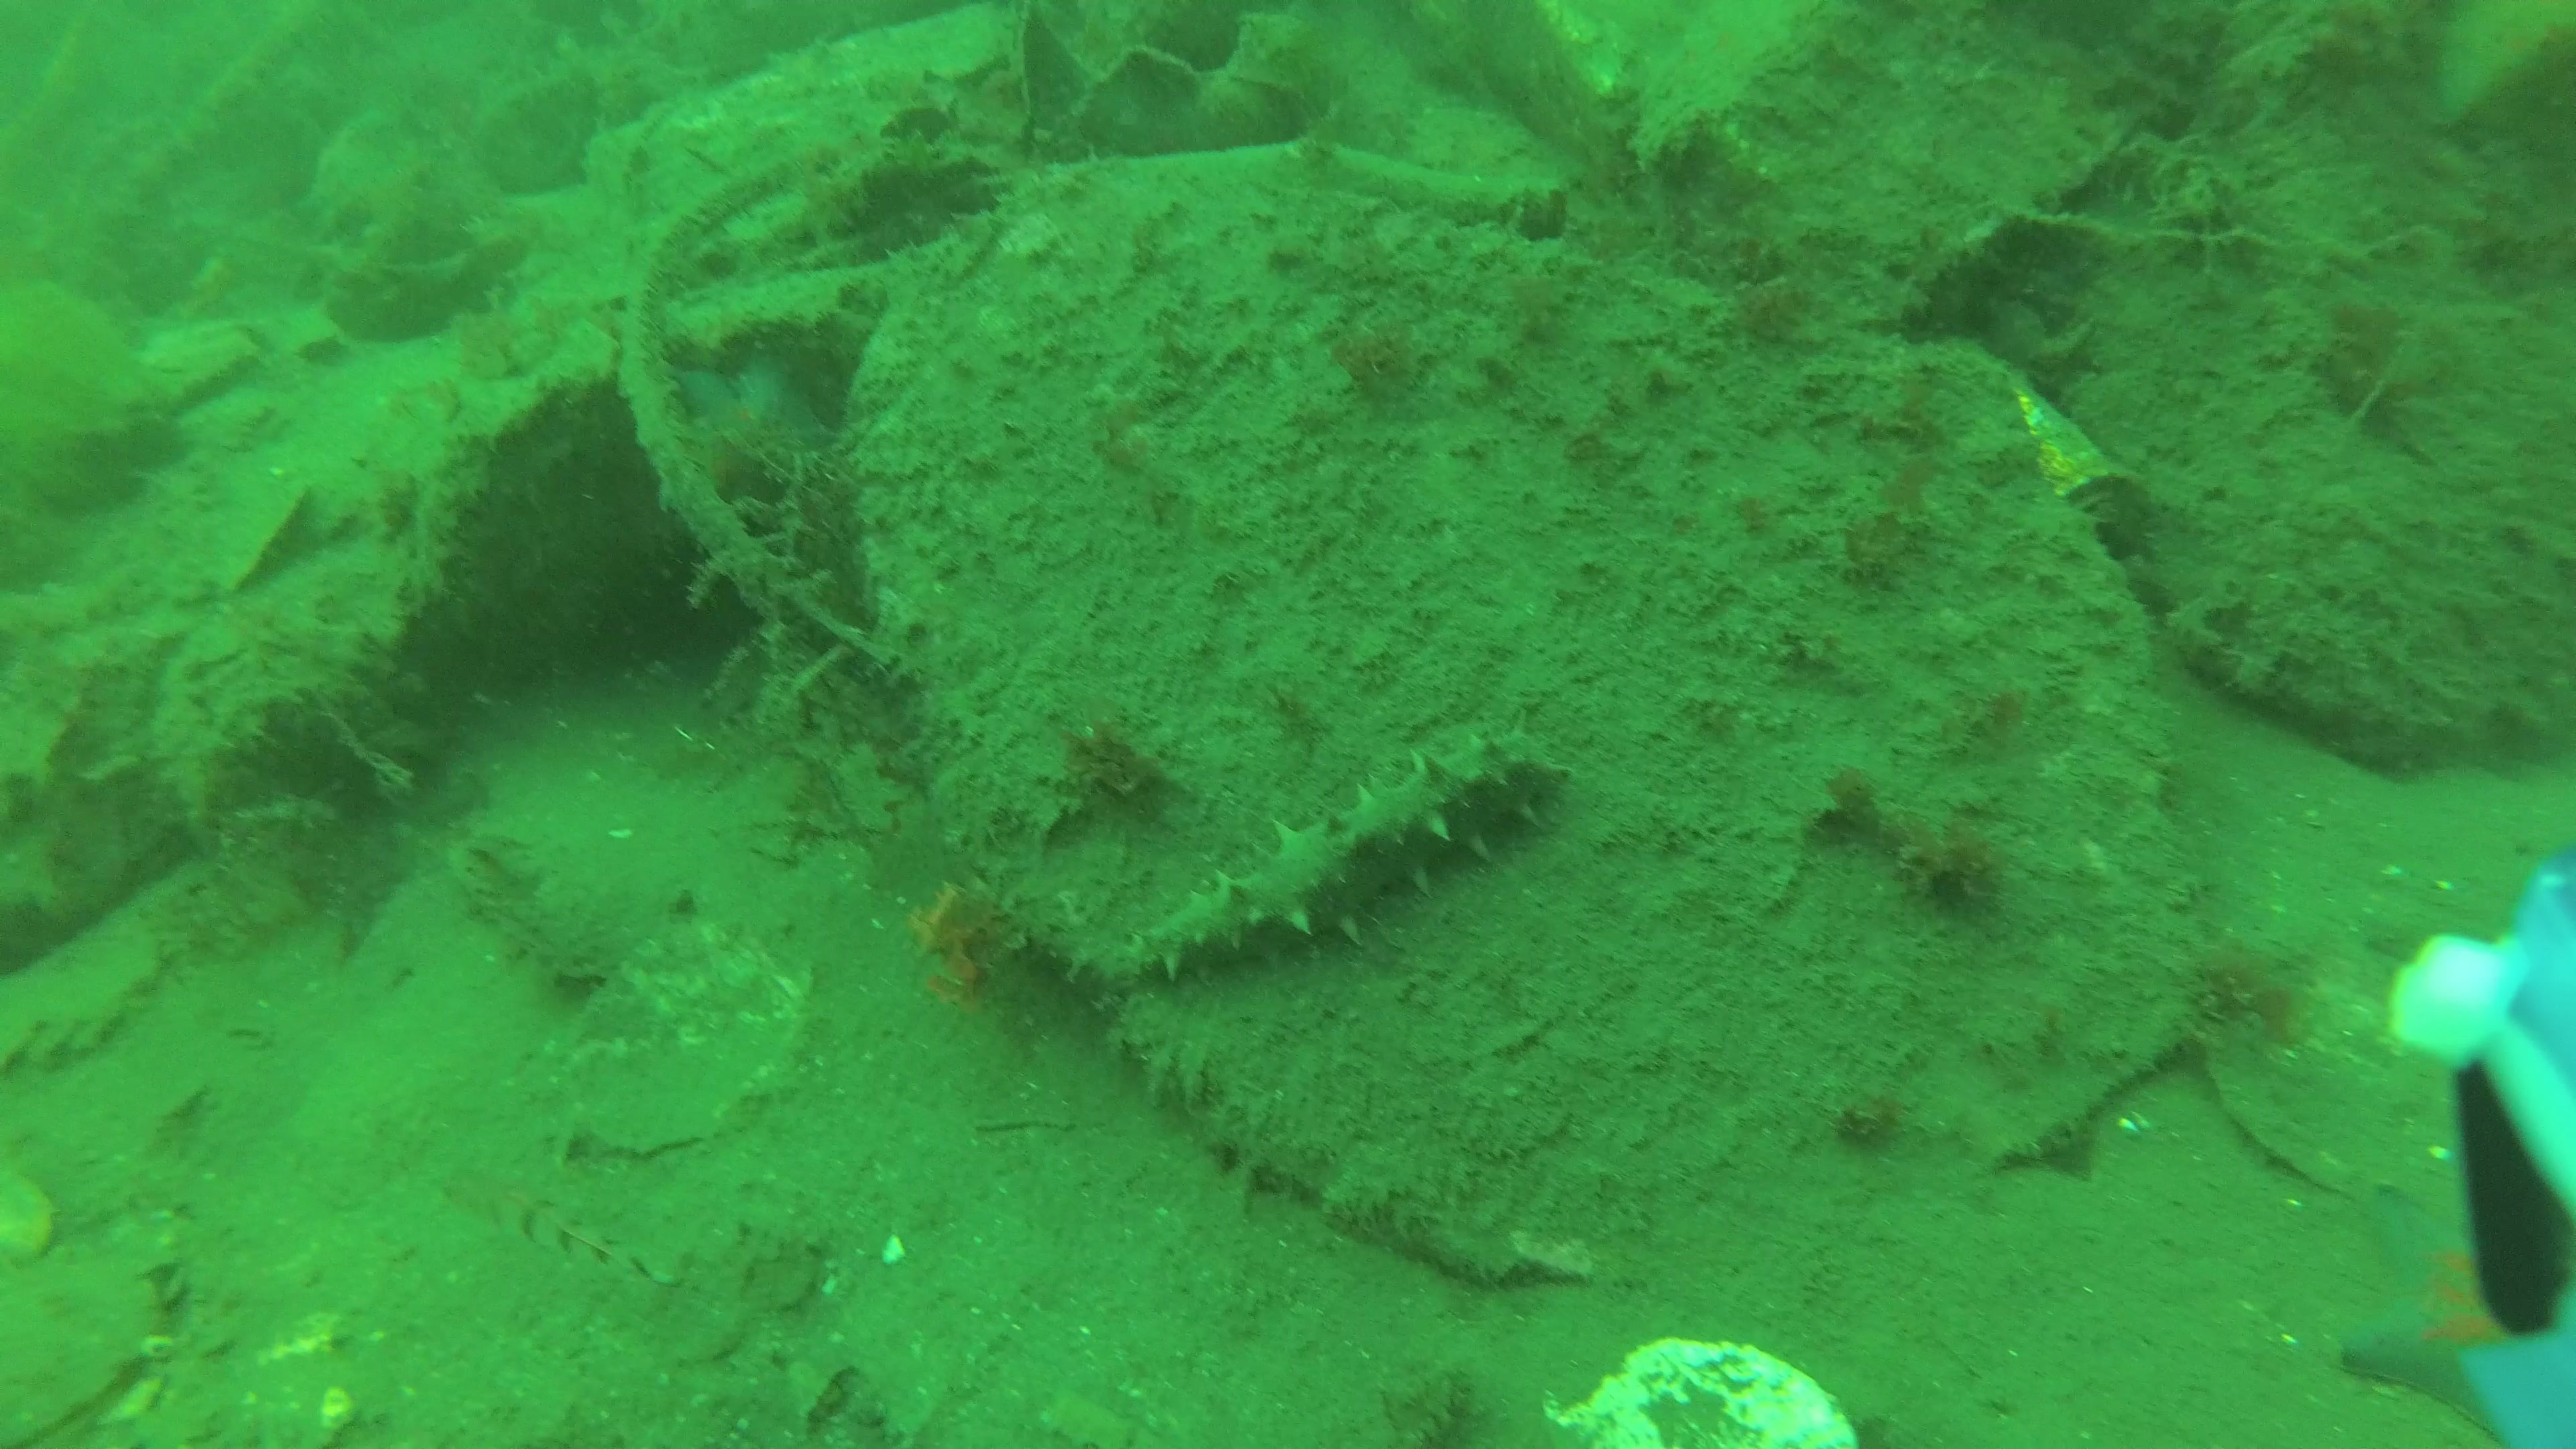holothurian: (1122, 725, 1576, 991)
scallop: (2204, 989, 2505, 1217), (561, 913, 810, 1154)
starfish: (2332, 1201, 2574, 1449), (0, 1254, 156, 1449), (678, 357, 839, 499)
